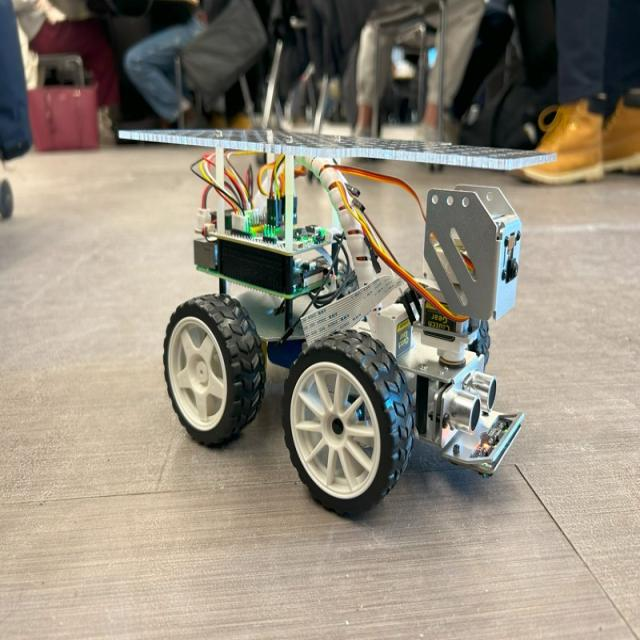vehicle: (98, 100, 576, 534)
